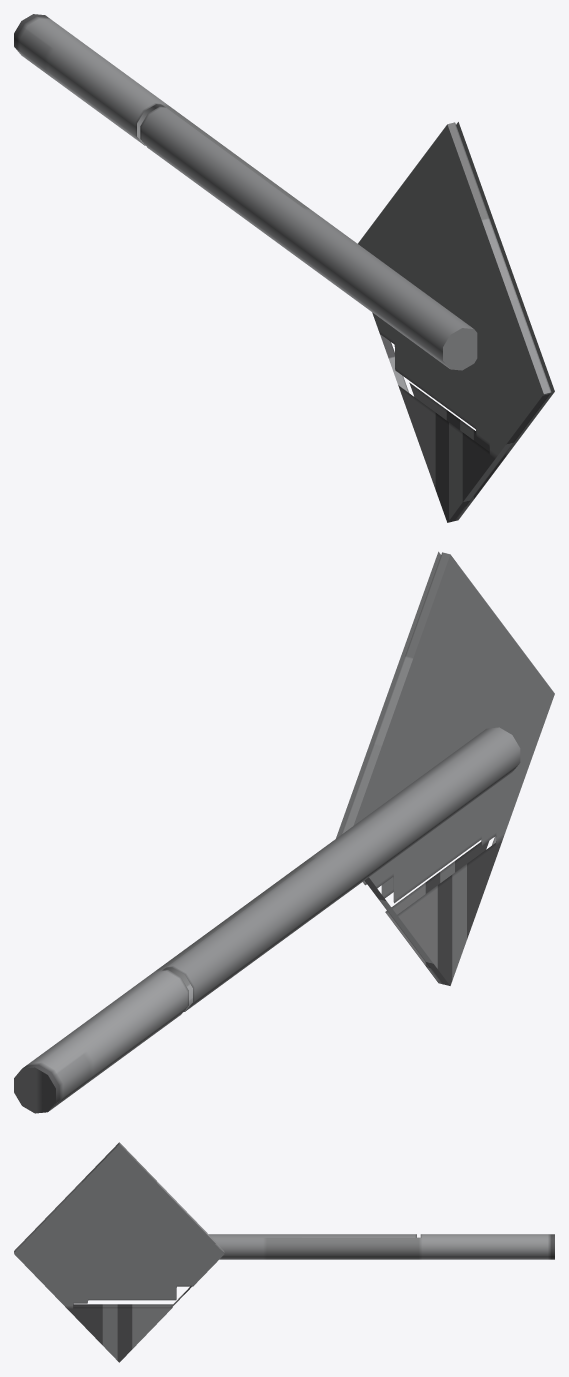
The picture shows the model from 3 angles, top to bottom: view 1: azimuth 30°, elevation 25°; view 2: azimuth 150°, elevation 25°; view 3: azimuth 270°, elevation 25°; orthographic projection. The views are drawn at different scales.
Bounding box in the file's own units: 0.1215 × 1.01 × 2.28.
